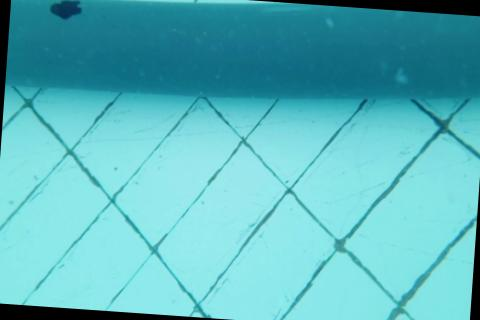kebocoran: (48, 0, 83, 21)
